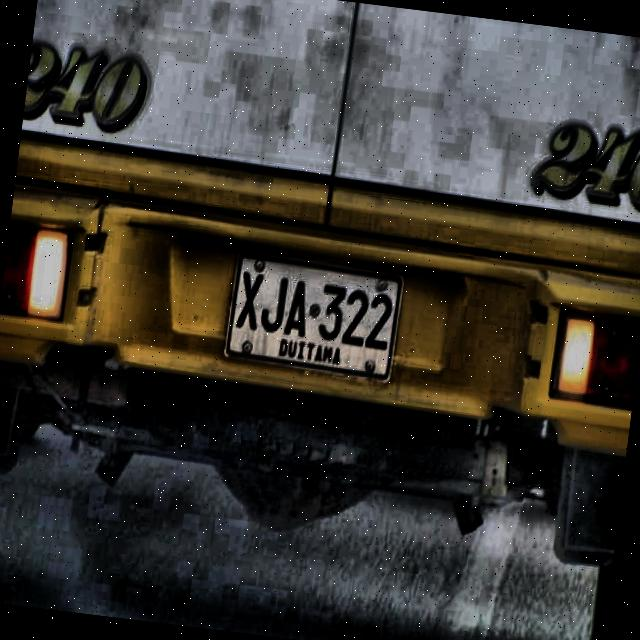2: (340, 286, 371, 348), (364, 290, 394, 350)
3: (316, 283, 346, 344)
A: (284, 278, 312, 336)
J: (257, 272, 290, 334)
X: (235, 270, 264, 330)
